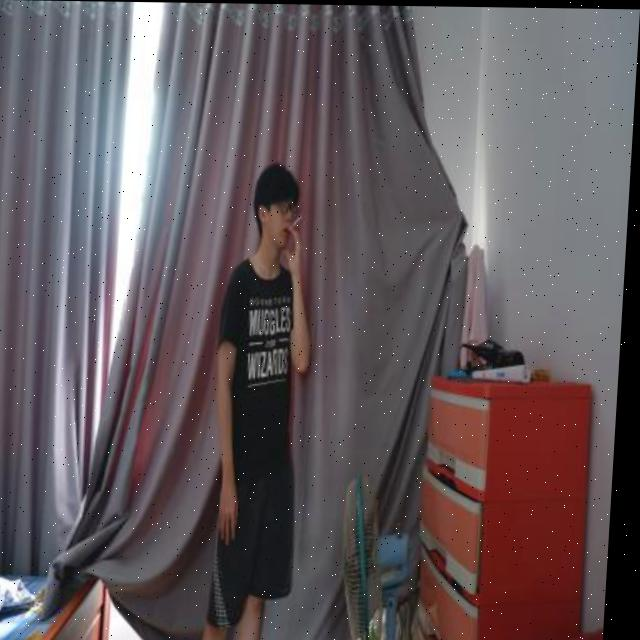cigarette: (293, 214, 304, 229)
